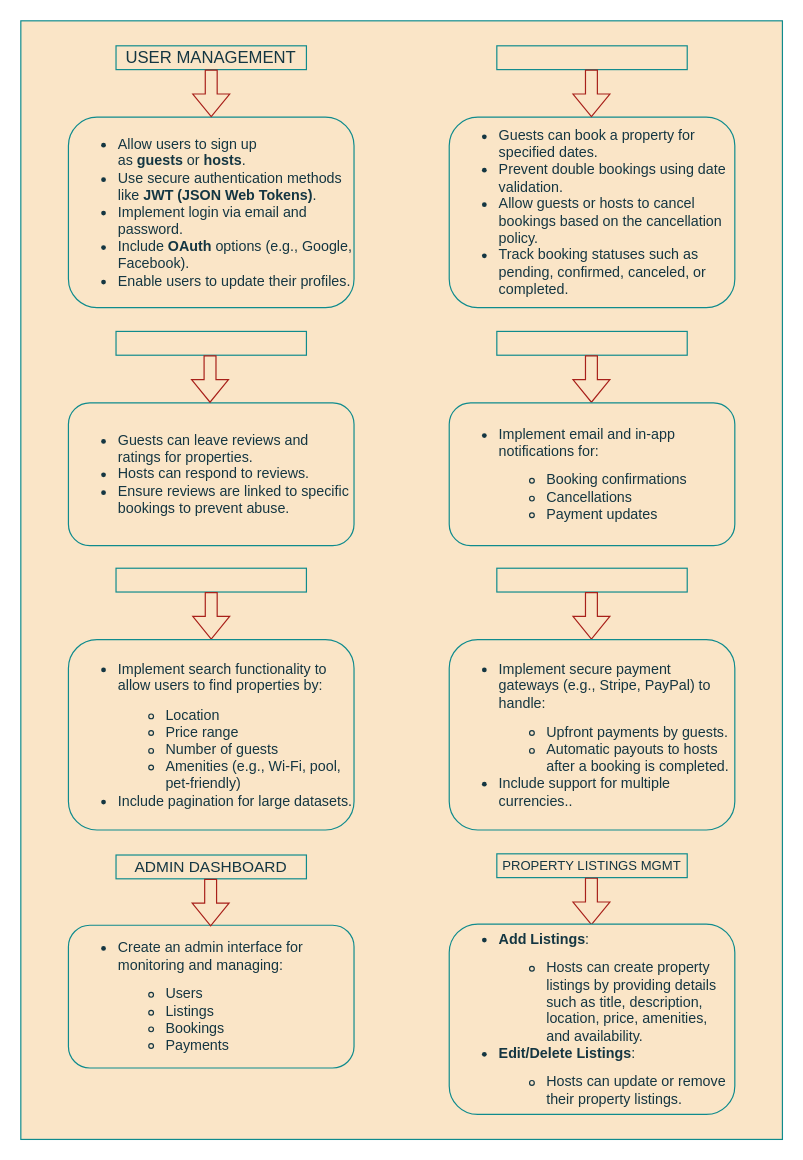
Image size: 803x1160. Some labels were removed from this diagram. The shapes that lost their labels are listed below. From the top down, each one's centre as x and y in pixels, then its label:
pixel 591 57: BOOKING MANAGEMENT
pixel 210 342: REVIEWS & RATINGS
pixel 591 342: NOTIFICATIONS SYSTEM
pixel 210 579: SEARCH & FILTERING
pixel 591 579: PAYMENT INTEGRATION
